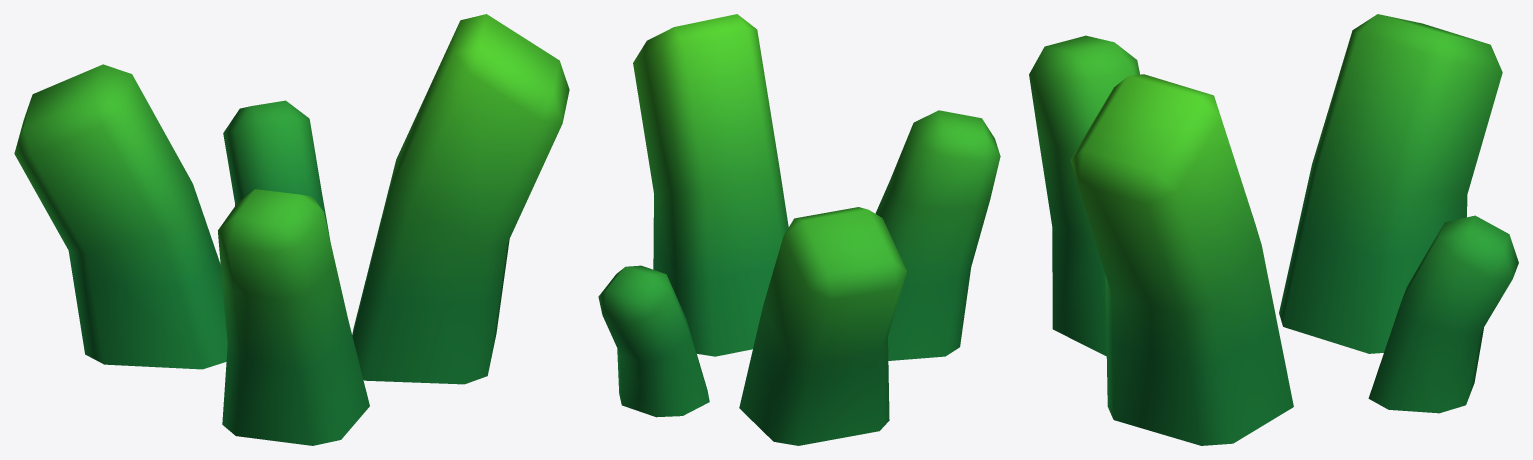
Rendered from Grass_3_1.glb.
3 renders of one model, left to right at view 1: azimuth 30°, elevation 25°; view 2: azimuth 150°, elevation 25°; view 3: azimuth 270°, elevation 25°, orthographic. The views are drawn at different scales.
Visible parts, largest first — view 1: Grass_3_1; view 2: Grass_3_1; view 3: Grass_3_1.
Boxes of the visible parts, x1,y1,x2,y2 form: Grass_3_1: [14, 14, 569, 445]; Grass_3_1: [598, 14, 1000, 445]; Grass_3_1: [1029, 14, 1518, 445].
Size of the model in its own units: 0.2396 by 0.1757 by 0.2272.
1 material, 1 textured.
